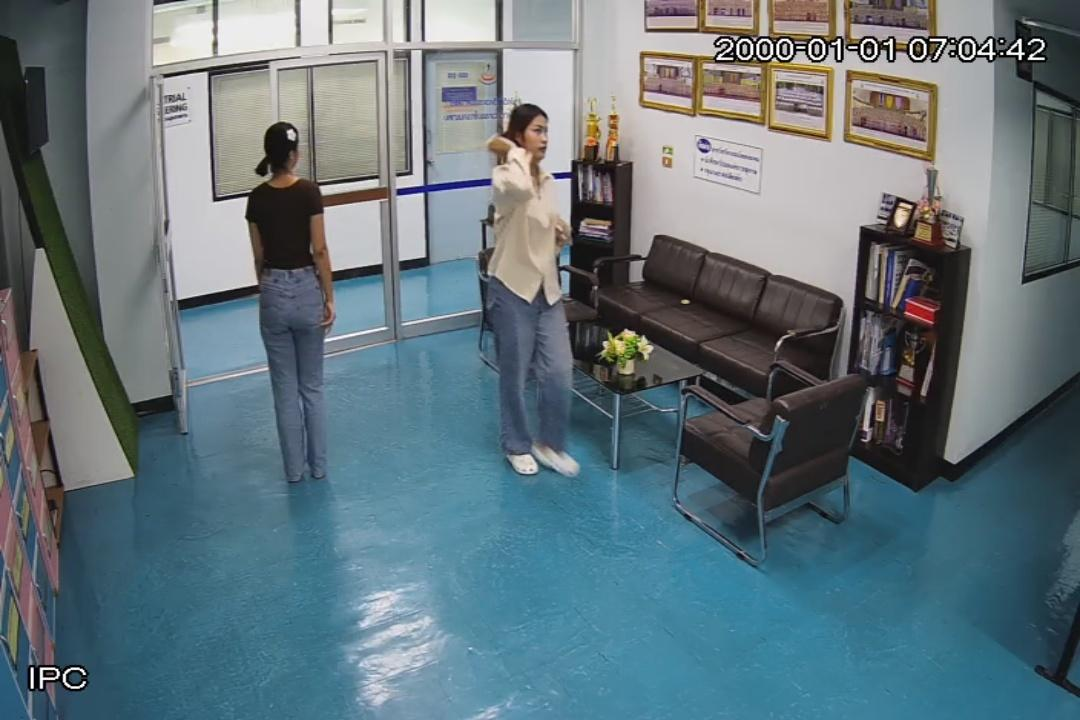normal: (484, 100, 592, 484), (246, 118, 346, 484)
